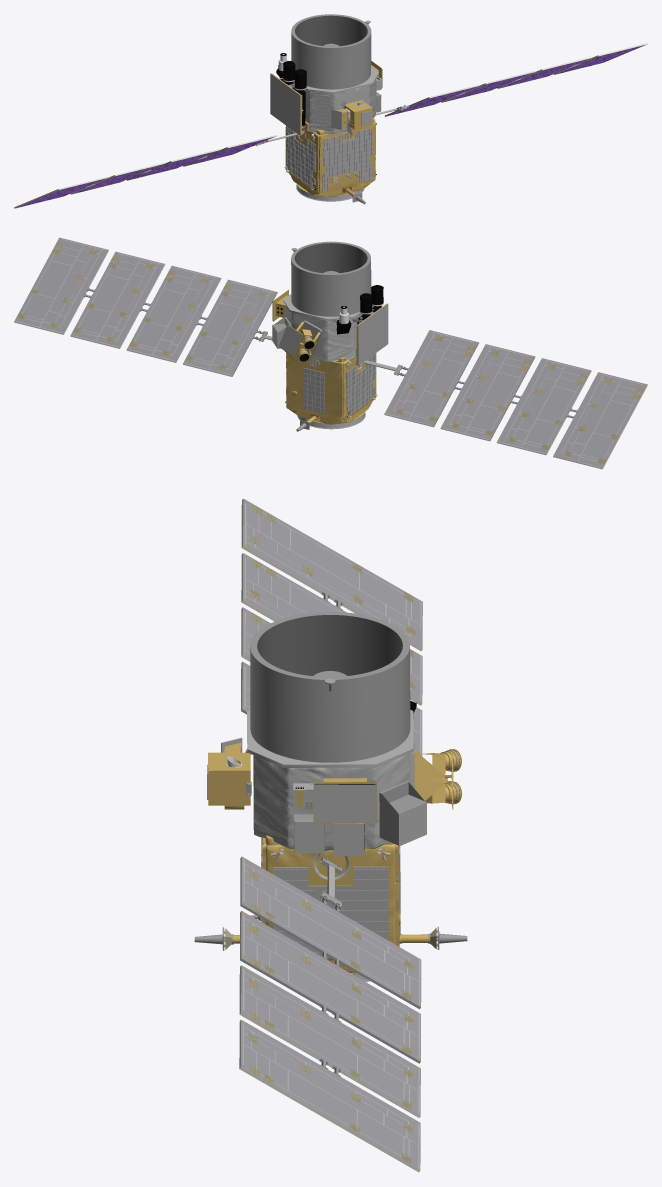
The model's file is cloud-aerosol-lidar-and-infrared-pathfinder-satellite-calipso.glb.
3 views of the same model, one above another, from view 1: azimuth 30°, elevation 25°; view 2: azimuth 150°, elevation 25°; view 3: azimuth 270°, elevation 25° (orthographic). The views are drawn at different scales.
Parts seen in each view (by area): view 1: Mesh _node_5, Mesh _node_19, Mesh _node_7, Mesh _node_16, Mesh _node_1, Mesh _node_18, Mesh, Mesh _node_3, Mesh _node_17, Mesh _node_9, Mesh _node_10, Mesh _node_13 (+5 smaller); view 2: Mesh _node_16, Mesh _node_7, Mesh _node_5, Mesh _node_19, Mesh _node_0, Mesh _node_3, Mesh _node_18, Mesh _node, Mesh _node_1, Mesh _node_4, Mesh _node_17, Mesh _node_14 (+1 smaller); view 3: Mesh _node_16, Mesh _node_7, Mesh _node_19, Mesh _node_18, Mesh _node_1, Mesh _node_5, Mesh _node_4, Mesh _node_0, Mesh _node_2, Mesh _node_17, Mesh _node.
Boxes of the visible parts, left/top/right/bottom form: Mesh _node_5: left=270, top=20, right=373, bottom=191; Mesh _node_19: left=291, top=14, right=371, bottom=89; Mesh _node_7: left=267, top=65, right=397, bottom=200; Mesh _node_16: left=16, top=44, right=646, bottom=207; Mesh _node_1: left=285, top=65, right=378, bottom=197; Mesh _node_18: left=295, top=15, right=367, bottom=45; Mesh: left=17, top=46, right=642, bottom=207; Mesh _node_3: left=285, top=122, right=376, bottom=193; Mesh _node_17: left=14, top=43, right=647, bottom=208; Mesh _node_9: left=19, top=45, right=645, bottom=206; Mesh _node_10: left=28, top=48, right=631, bottom=204; Mesh _node_13: left=22, top=46, right=640, bottom=205; Mesh _node_16: left=14, top=237, right=647, bottom=468; Mesh _node_7: left=16, top=239, right=642, bottom=467; Mesh _node_5: left=272, top=248, right=388, bottom=415; Mesh _node_19: left=291, top=241, right=371, bottom=316; Mesh _node_0: left=17, top=242, right=644, bottom=463; Mesh _node_3: left=286, top=352, right=376, bottom=421; Mesh _node_18: left=294, top=243, right=367, bottom=273; Mesh _node: left=14, top=242, right=643, bottom=468; Mesh _node_1: left=275, top=295, right=376, bottom=424; Mesh _node_4: left=83, top=249, right=577, bottom=431; Mesh _node_17: left=14, top=250, right=647, bottom=469; Mesh _node_14: left=272, top=285, right=383, bottom=417; Mesh _node_16: left=240, top=498, right=422, bottom=1169; Mesh _node_7: left=242, top=503, right=423, bottom=1167; Mesh _node_19: left=250, top=612, right=410, bottom=762; Mesh _node_18: left=257, top=615, right=402, bottom=675; Mesh _node_1: left=208, top=742, right=400, bottom=974; Mesh _node_5: left=207, top=678, right=426, bottom=958; Mesh _node_4: left=194, top=592, right=467, bottom=1076; Mesh _node_0: left=248, top=504, right=415, bottom=1164; Mesh _node_2: left=233, top=748, right=461, bottom=943; Mesh _node_17: left=239, top=499, right=422, bottom=1172; Mesh _node: left=225, top=505, right=459, bottom=1169.
Bounding box in the file's own units: 228 × 57.86 × 45.63.
